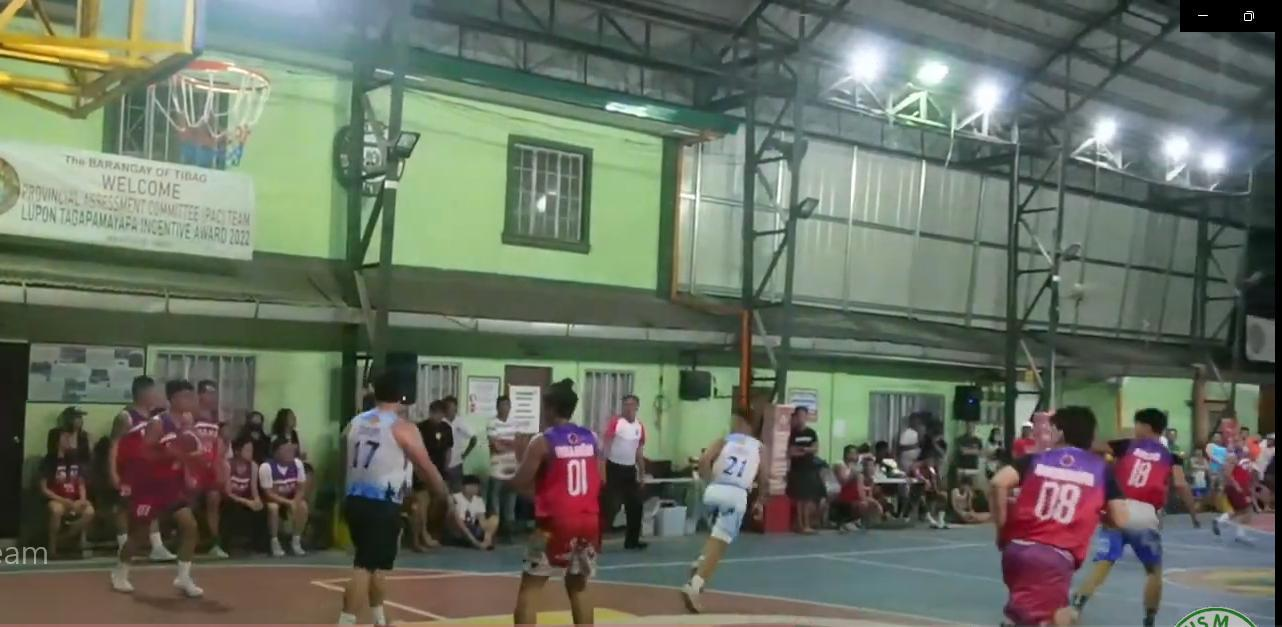ball: (170, 423, 205, 456)
human: (307, 360, 449, 627), (972, 395, 1127, 627), (473, 372, 605, 627), (1063, 405, 1190, 627), (97, 373, 215, 605), (677, 390, 772, 627), (587, 375, 659, 555)
rim: (160, 52, 276, 184)
